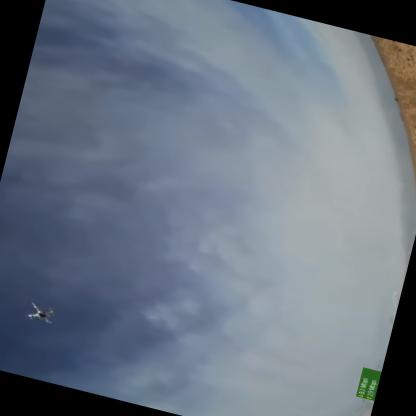drone: (21, 296, 64, 330)
